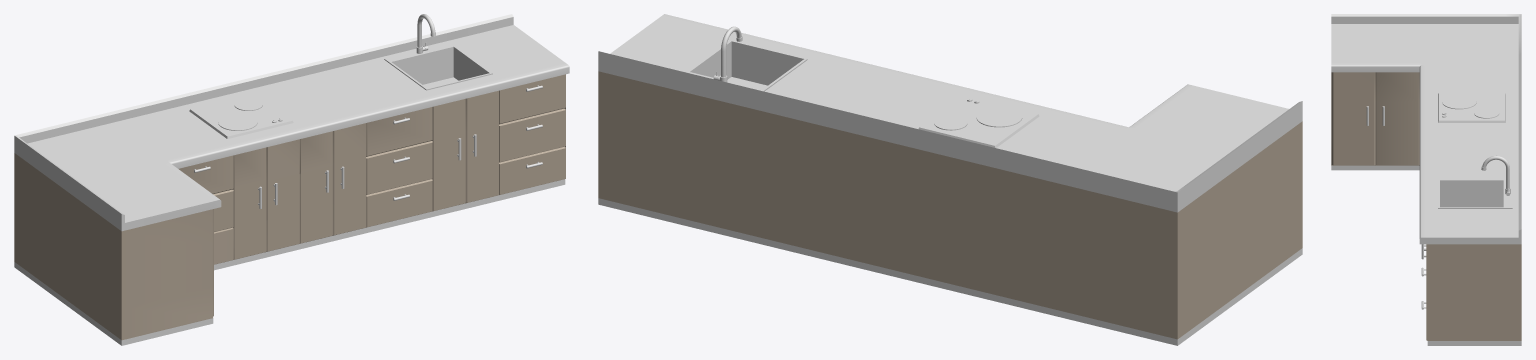
File: Küchentheke 1.fbx
3 views of the same model, side by side, from view 1: azimuth 30°, elevation 25°; view 2: azimuth 150°, elevation 25°; view 3: azimuth 270°, elevation 25° (orthographic). The views are drawn at different scales.
Visible parts, largest first — view 1: Cube, Griffe, Cylinder.004; view 2: Cube, Cylinder.004; view 3: Cube, Cylinder.004, Griffe, Cylinder.
Boxes of the visible parts, left/top/right/bottom form: Cube: left=14, top=14, right=569, bottom=345; Griffe: left=194, top=85, right=542, bottom=208; Cylinder.004: left=218, top=98, right=262, bottom=130; Cube: left=598, top=14, right=1302, bottom=345; Cylinder.004: left=934, top=107, right=1022, bottom=130; Cube: left=1331, top=14, right=1521, bottom=345; Cylinder.004: left=1442, top=94, right=1499, bottom=118; Griffe: left=1366, top=106, right=1426, bottom=309; Cylinder: left=1481, top=155, right=1509, bottom=189.
Size of the model in its own units: 320 by 102 by 120.
